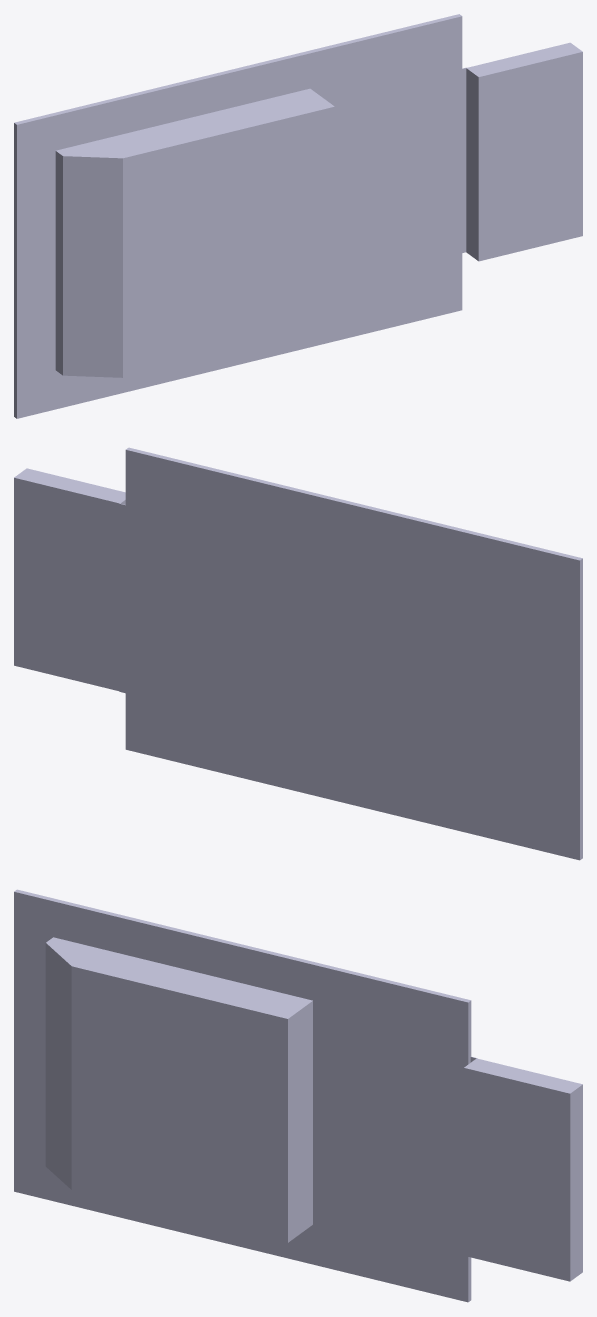
The model's file is HOUSE_COVER.obj.
3 renders of one model, top to bottom at view 1: azimuth 30°, elevation 25°; view 2: azimuth 150°, elevation 25°; view 3: azimuth 330°, elevation 25°, orthographic.
Parts seen in each view (by area): view 1: SCX2000-3_HOUSE_COVER_TW_000_1-HSC_SCX2000-3_HOUSE_COVER003 (Mes; view 2: SCX2000-3_HOUSE_COVER_TW_000_1-HSC_SCX2000-3_HOUSE_COVER003 (Mes; view 3: SCX2000-3_HOUSE_COVER_TW_000_1-HSC_SCX2000-3_HOUSE_COVER003 (Mes.
Part boxes in pixels (x1,y1,x2,y2): SCX2000-3_HOUSE_COVER_TW_000_1-HSC_SCX2000-3_HOUSE_COVER003 (Mes: (14,14,582,418); SCX2000-3_HOUSE_COVER_TW_000_1-HSC_SCX2000-3_HOUSE_COVER003 (Mes: (14,447,582,860); SCX2000-3_HOUSE_COVER_TW_000_1-HSC_SCX2000-3_HOUSE_COVER003 (Mes: (14,889,582,1302).
Bounding box in the file's own units: 4291 × 2170 × 370.
